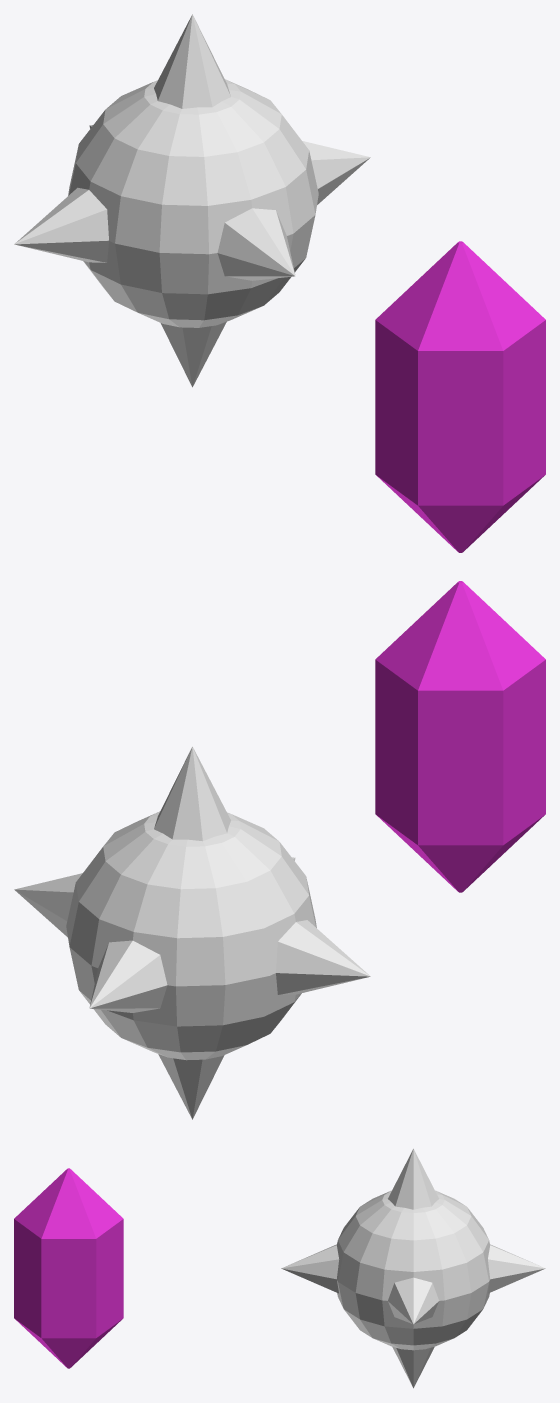
Rendered from TestTask_Snake.fbx.
3 views of the same model, one above another, from view 1: azimuth 30°, elevation 25°; view 2: azimuth 150°, elevation 25°; view 3: azimuth 270°, elevation 25° (orthographic). The views are drawn at different scales.
Visible parts, largest first — view 1: Sharp, Crystal; view 2: Sharp, Crystal; view 3: Sharp, Crystal.
Boxes of the visible parts, left/top/right/bottom form: Sharp: left=14, top=14, right=370, bottom=387; Crystal: left=375, top=241, right=545, bottom=552; Sharp: left=14, top=746, right=370, bottom=1119; Crystal: left=375, top=581, right=545, bottom=892; Sharp: left=281, top=1148, right=545, bottom=1388; Crystal: left=14, top=1168, right=123, bottom=1368.
Bounding box in the file's own units: 324 × 324 × 650.
